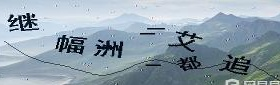chinese: (97, 38, 127, 65), (54, 34, 85, 60), (8, 8, 42, 31), (174, 26, 202, 53), (222, 53, 254, 76), (174, 58, 207, 74)
